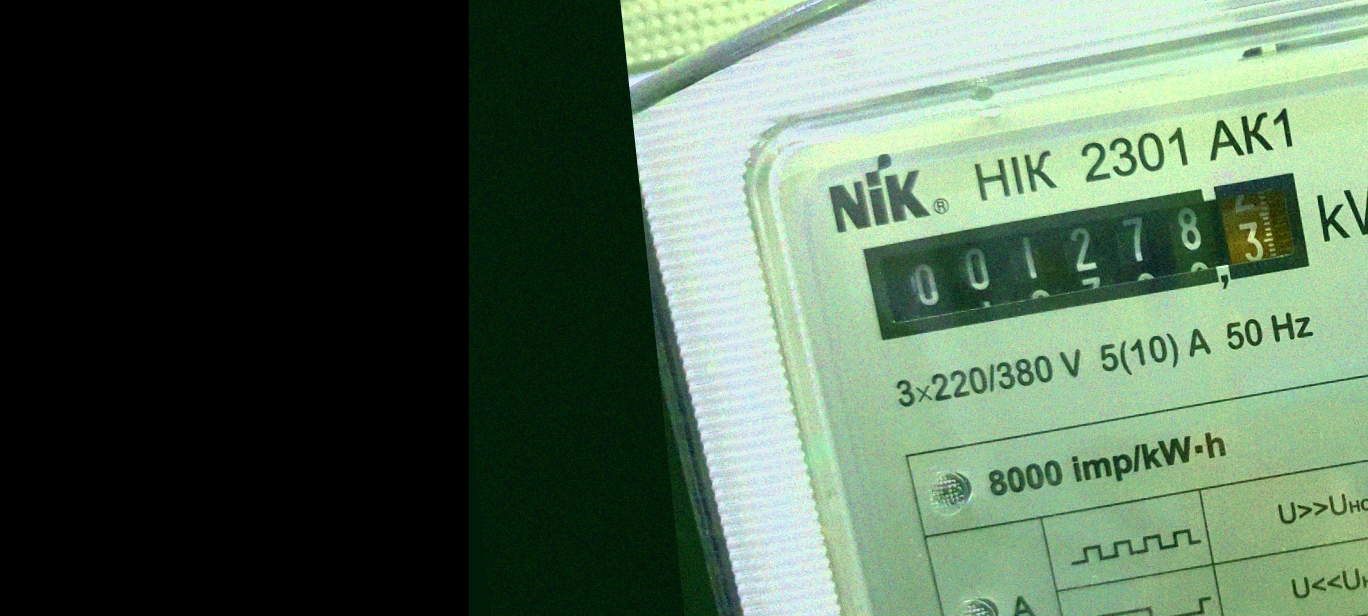0: (911, 258, 944, 309), (962, 244, 992, 292)
1: (1020, 232, 1041, 282)
2: (1067, 223, 1099, 273), (1230, 191, 1258, 215)
3: (1236, 216, 1267, 262)
7: (1121, 213, 1148, 264)
8: (1175, 204, 1205, 253)
screen: (841, 160, 1330, 351)
